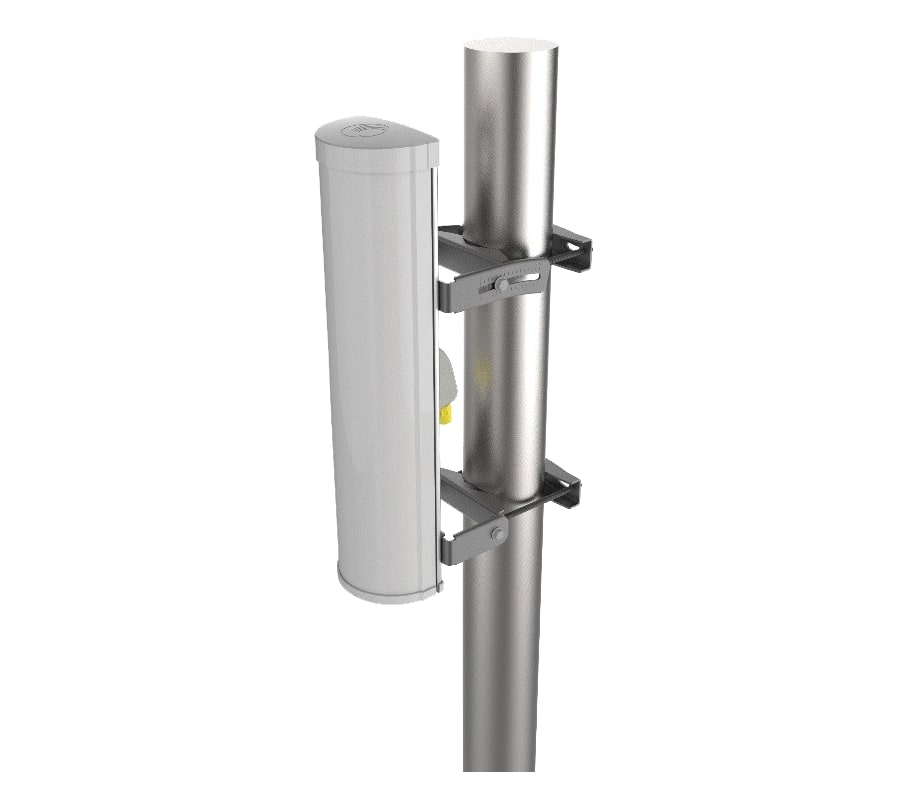sa: (309, 101, 498, 662)
